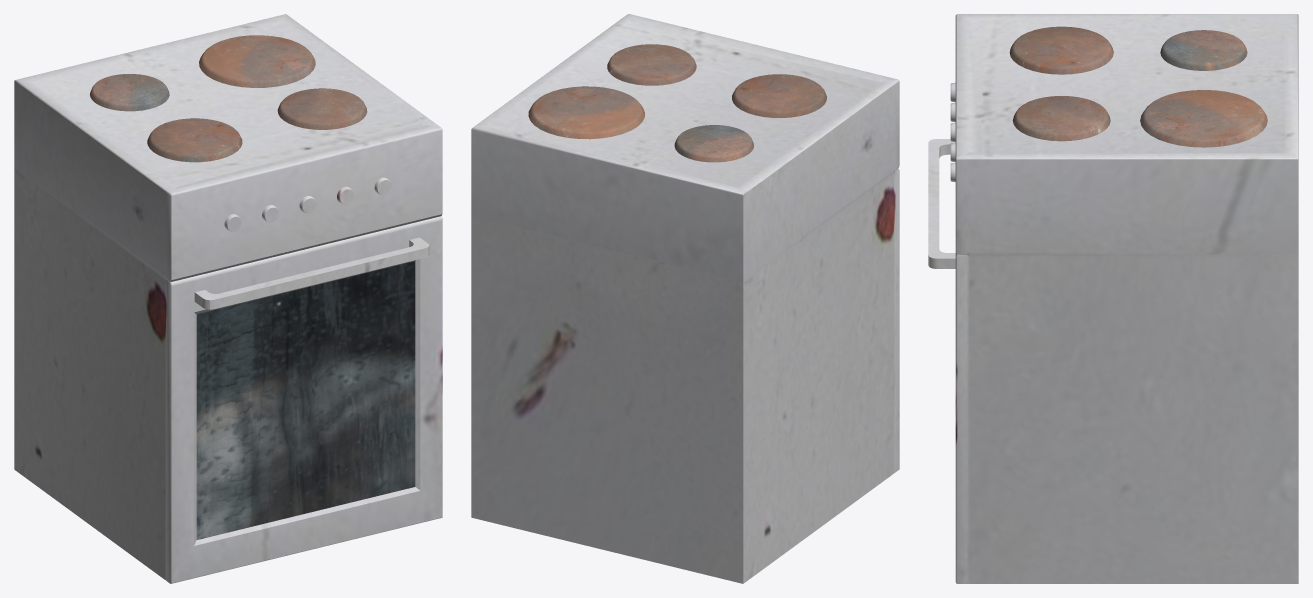
The model's file is Pliit.fbx.
3 renders of one model, left to right at view 1: azimuth 30°, elevation 25°; view 2: azimuth 150°, elevation 25°; view 3: azimuth 270°, elevation 25°, orthographic. The views are drawn at different scales.
Parts seen in each view (by area): view 1: pliit.001; view 2: pliit.001; view 3: pliit.001.
Boxes of the visible parts, left/top/right/bottom form: pliit.001: left=14, top=14, right=442, bottom=583; pliit.001: left=471, top=14, right=899, bottom=583; pliit.001: left=928, top=14, right=1298, bottom=583.
Bounding box in the file's own units: 752 × 1043 × 812.
